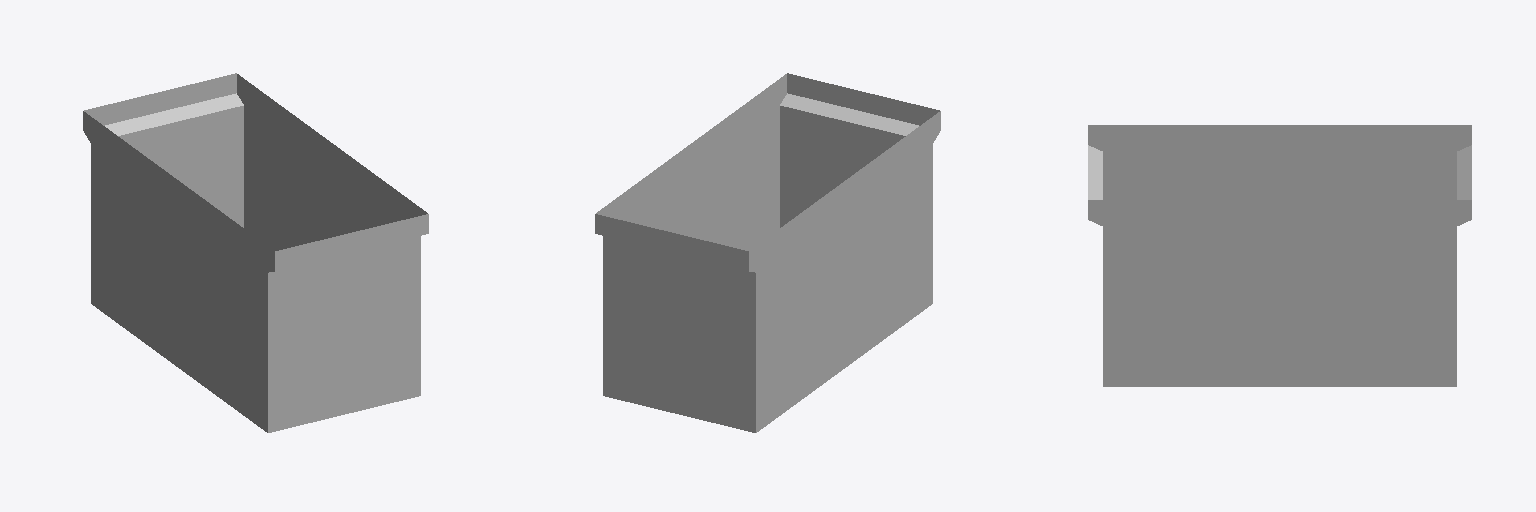
The model's file is Highway_End.obj.
3 renders of one model, left to right at view 1: azimuth 30°, elevation 25°; view 2: azimuth 150°, elevation 25°; view 3: azimuth 270°, elevation 25°, orthographic.
Parts seen in each view (by area): view 1: Highway_End_Cube.073; view 2: Highway_End_Cube.073; view 3: Highway_End_Cube.073.
Boxes of the visible parts, x1=… form: Highway_End_Cube.073: x1=83, y1=73, x2=428, y2=432; Highway_End_Cube.073: x1=595, y1=73, x2=940, y2=432; Highway_End_Cube.073: x1=1088, y1=125, x2=1471, y2=386.
Size of the model in its own units: 6 by 7 by 13.